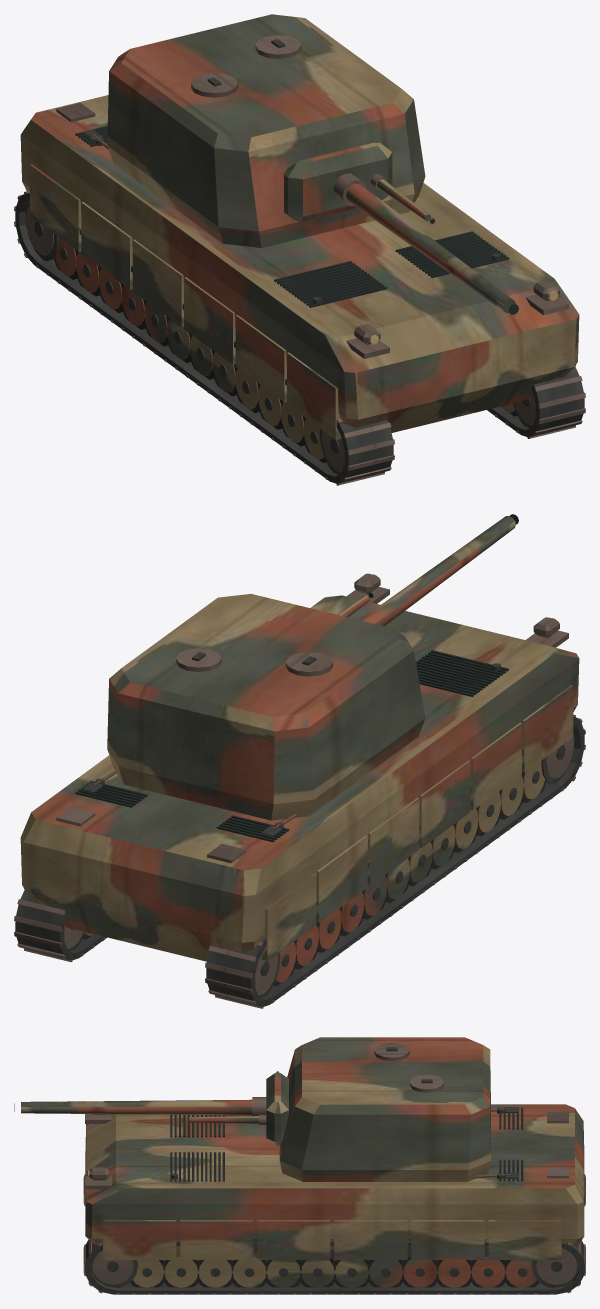
File: maus.glb
3 renders of one model, top to bottom at view 1: azimuth 30°, elevation 25°; view 2: azimuth 150°, elevation 25°; view 3: azimuth 270°, elevation 25°, orthographic. The views are drawn at different scales.
Parts seen in each view (by area): view 1: Panzer VIII Maus | Prototyp; view 2: Panzer VIII Maus | Prototyp; view 3: Panzer VIII Maus | Prototyp.
Part boxes in pixels (x1,y1,x2,y2): Panzer VIII Maus | Prototyp: (14,14,585,485); Panzer VIII Maus | Prototyp: (14,514,585,1008); Panzer VIII Maus | Prototyp: (14,1037,585,1294).
Size of the model in its own units: 3.71 by 3.69 by 10.31.
Materials: 1 (1 with a texture image).
